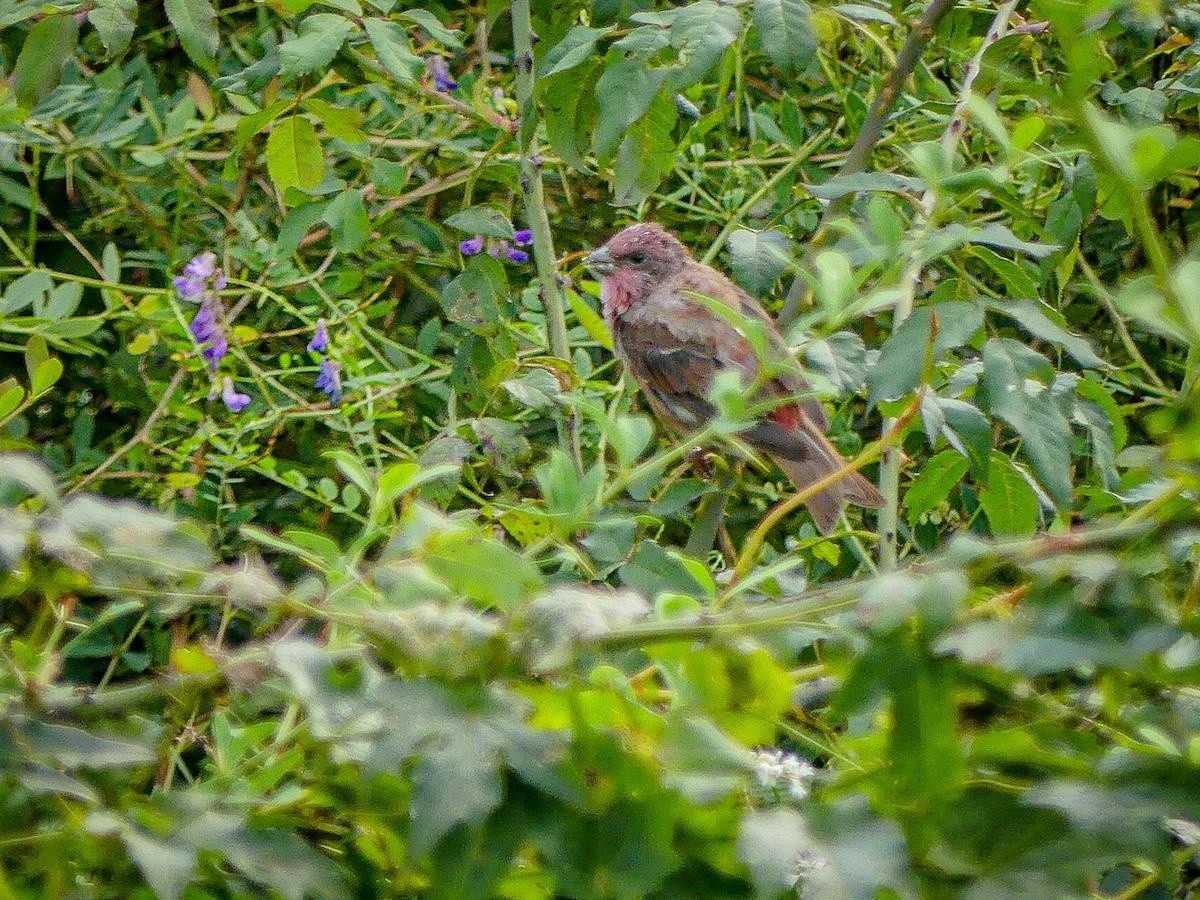rosefinch: (590, 216, 886, 510)
